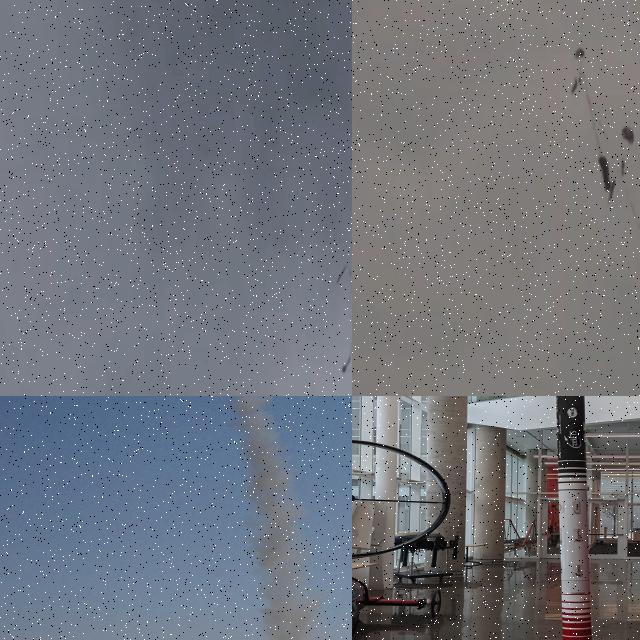Rocket: (556, 396, 592, 640), (342, 356, 350, 373)
